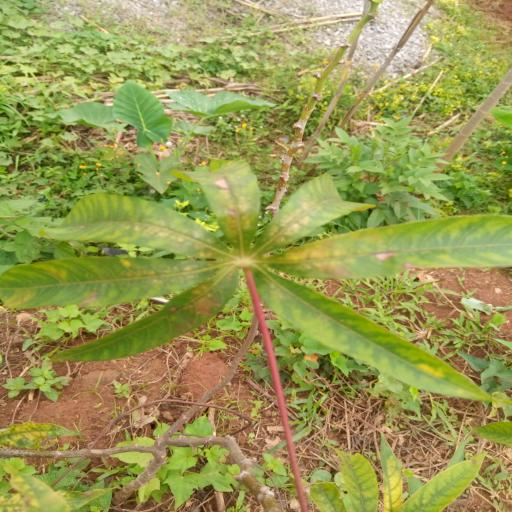Cassava_Mosaic: (0, 162, 512, 402)
